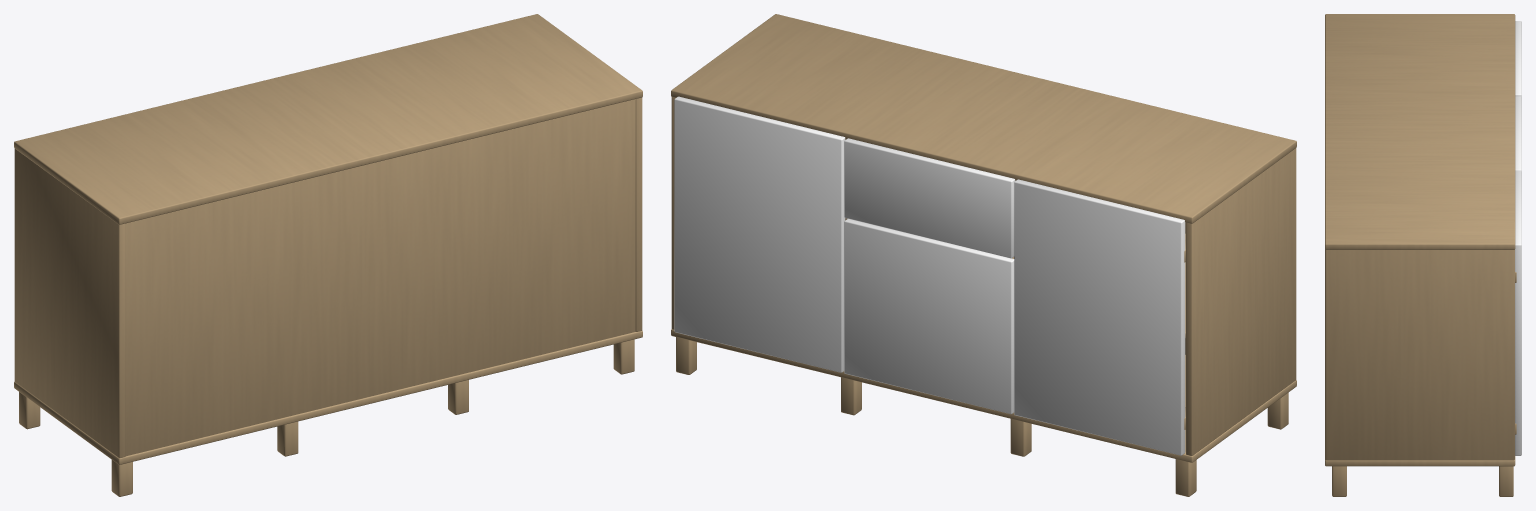
Rendered from sideboard-oak-white.glb.
The picture shows the model from 3 angles, left to right: view 1: azimuth 30°, elevation 25°; view 2: azimuth 150°, elevation 25°; view 3: azimuth 270°, elevation 25°; orthographic projection. The views are drawn at different scales.
Parts seen in each view (by area): view 1: Cabinet back, Oak top and bottom.001, Oak outer side, Oak top and bottom, Oak outer side.001, Square oak foot, Square oak foot.002, Square oak foot.006; view 2: Oak top and bottom.001, Flat push-open door, Flat push-open door.001, Centre drawer front, Oak outer side, Centre drawer front.001, Oak top and bottom, Oak outer side.001, Square oak foot.001, Square oak foot.003, Square oak foot.005, Square oak foot.007; view 3: Oak top and bottom.001, Oak outer side.001, Flat push-open door.001, Oak top and bottom, Flat push-open door, Centre drawer front.001, Square oak foot.006, Square oak foot.007.
Boxes of the visible parts, <box> form: Cabinet back: <box>125,99,635,456</box>; Oak top and bottom.001: <box>14,14,642,224</box>; Oak outer side: <box>14,149,125,458</box>; Oak top and bottom: <box>14,330,642,464</box>; Oak outer side.001: <box>635,97,642,331</box>; Square oak foot: <box>111,460,132,496</box>; Square oak foot.002: <box>277,421,298,456</box>; Square oak foot.006: <box>613,339,634,374</box>; Oak top and bottom.001: <box>671,14,1296,223</box>; Flat push-open door: <box>1014,179,1185,455</box>; Flat push-open door.001: <box>674,96,845,372</box>; Centre drawer front: <box>844,219,1014,414</box>; Oak outer side: <box>1186,148,1296,455</box>; Centre drawer front.001: <box>844,138,1015,258</box>; Oak top and bottom: <box>671,329,1296,462</box>; Oak outer side.001: <box>671,97,675,329</box>; Square oak foot.001: <box>1175,459,1196,496</box>; Square oak foot.003: <box>1010,419,1031,456</box>; Square oak foot.005: <box>841,377,861,415</box>; Square oak foot.007: <box>676,337,696,374</box>; Oak top and bottom.001: <box>1325,14,1515,249</box>; Oak outer side.001: <box>1325,250,1514,460</box>; Flat push-open door.001: <box>1515,171,1521,455</box>; Oak top and bottom: <box>1325,249,1515,466</box>; Flat push-open door: <box>1515,21,1521,96</box>; Centre drawer front.001: <box>1515,96,1521,171</box>; Square oak foot.006: <box>1332,466,1346,496</box>; Square oak foot.007: <box>1499,466,1513,496</box>.
Bounding box in the file's own units: 1.55 × 0.8 × 0.559.
2 materials, 1 textured.
